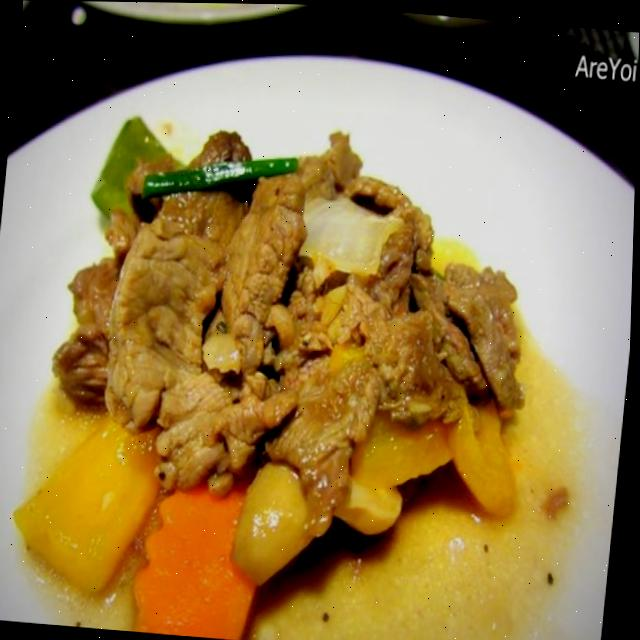牛肉菜式: (0, 60, 617, 640)
